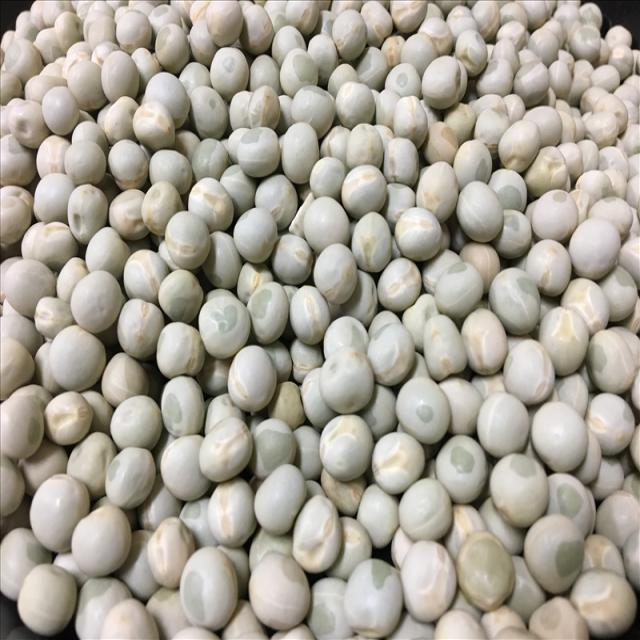pea: (2, 4, 640, 636)
